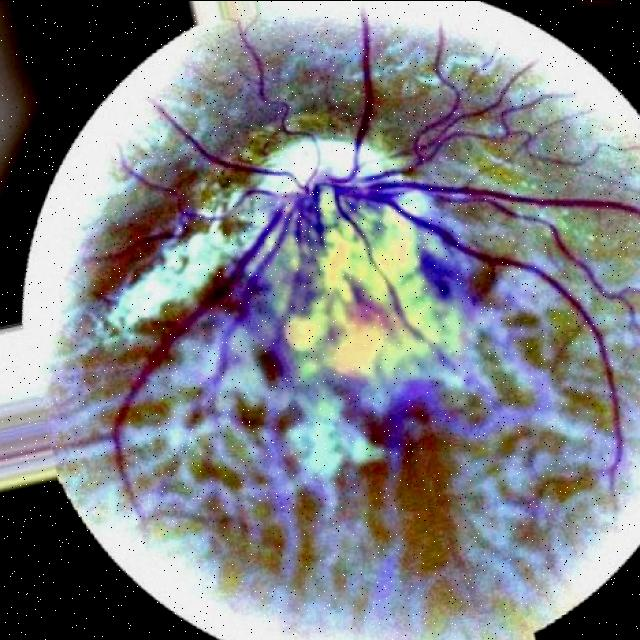Macula: (198, 254, 247, 322)
Nerves: (114, 201, 285, 508), (401, 180, 617, 209), (355, 9, 375, 145)
Optic Disk: (257, 139, 401, 279)
